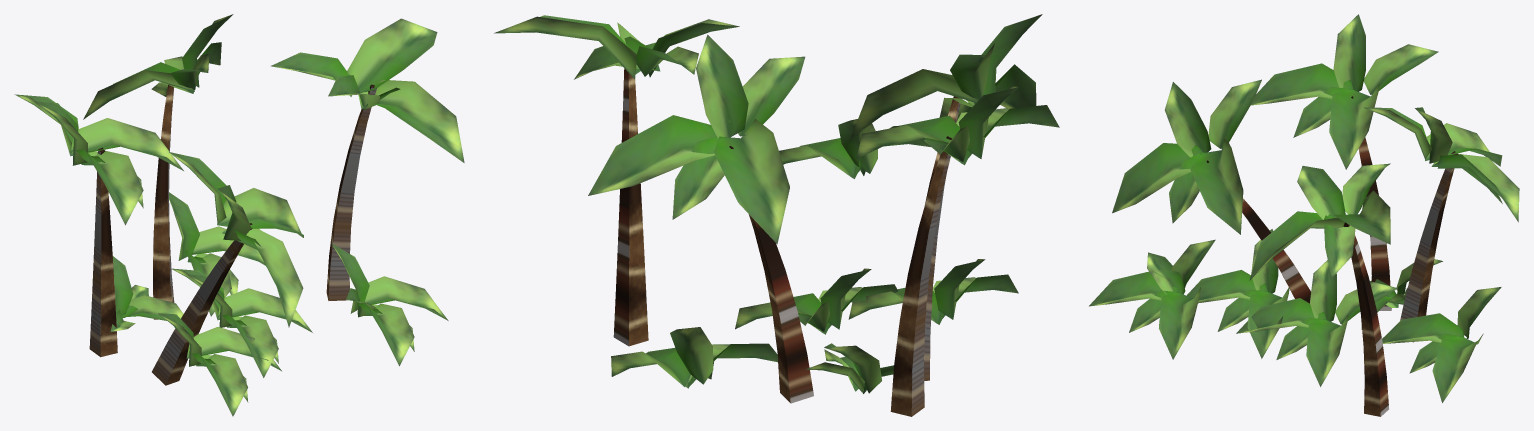
Rendered from fiolage.FBX.
The picture shows the model from 3 angles, left to right: view 1: azimuth 30°, elevation 25°; view 2: azimuth 150°, elevation 25°; view 3: azimuth 270°, elevation 25°; orthographic projection. The views are drawn at different scales.
Parts seen in each view (by area): view 1: Fiolage; view 2: Fiolage; view 3: Fiolage.
Part boxes in pixels (x1,y1,x2,y2): Fiolage: (14, 14, 464, 416); Fiolage: (494, 14, 1059, 416); Fiolage: (1089, 14, 1519, 416).
Size of the model in its own units: 2.57 by 1.76 by 2.48.
1 material, 1 textured.
